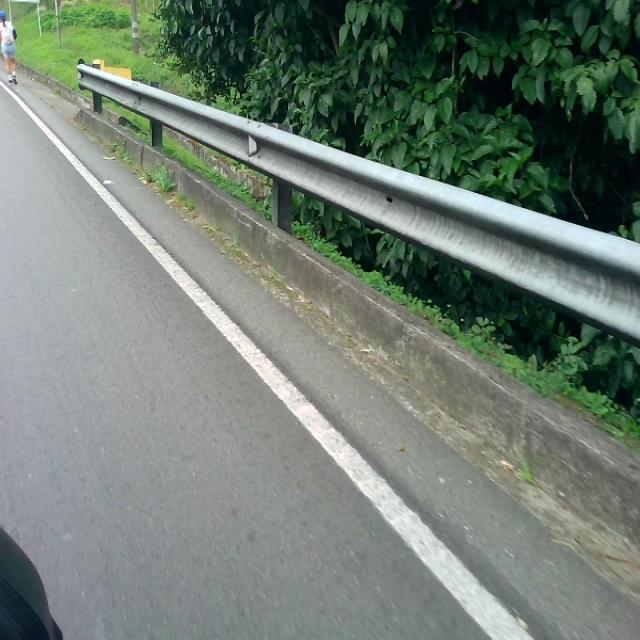DITCH: (1, 59, 638, 638), (1, 111, 638, 638)
